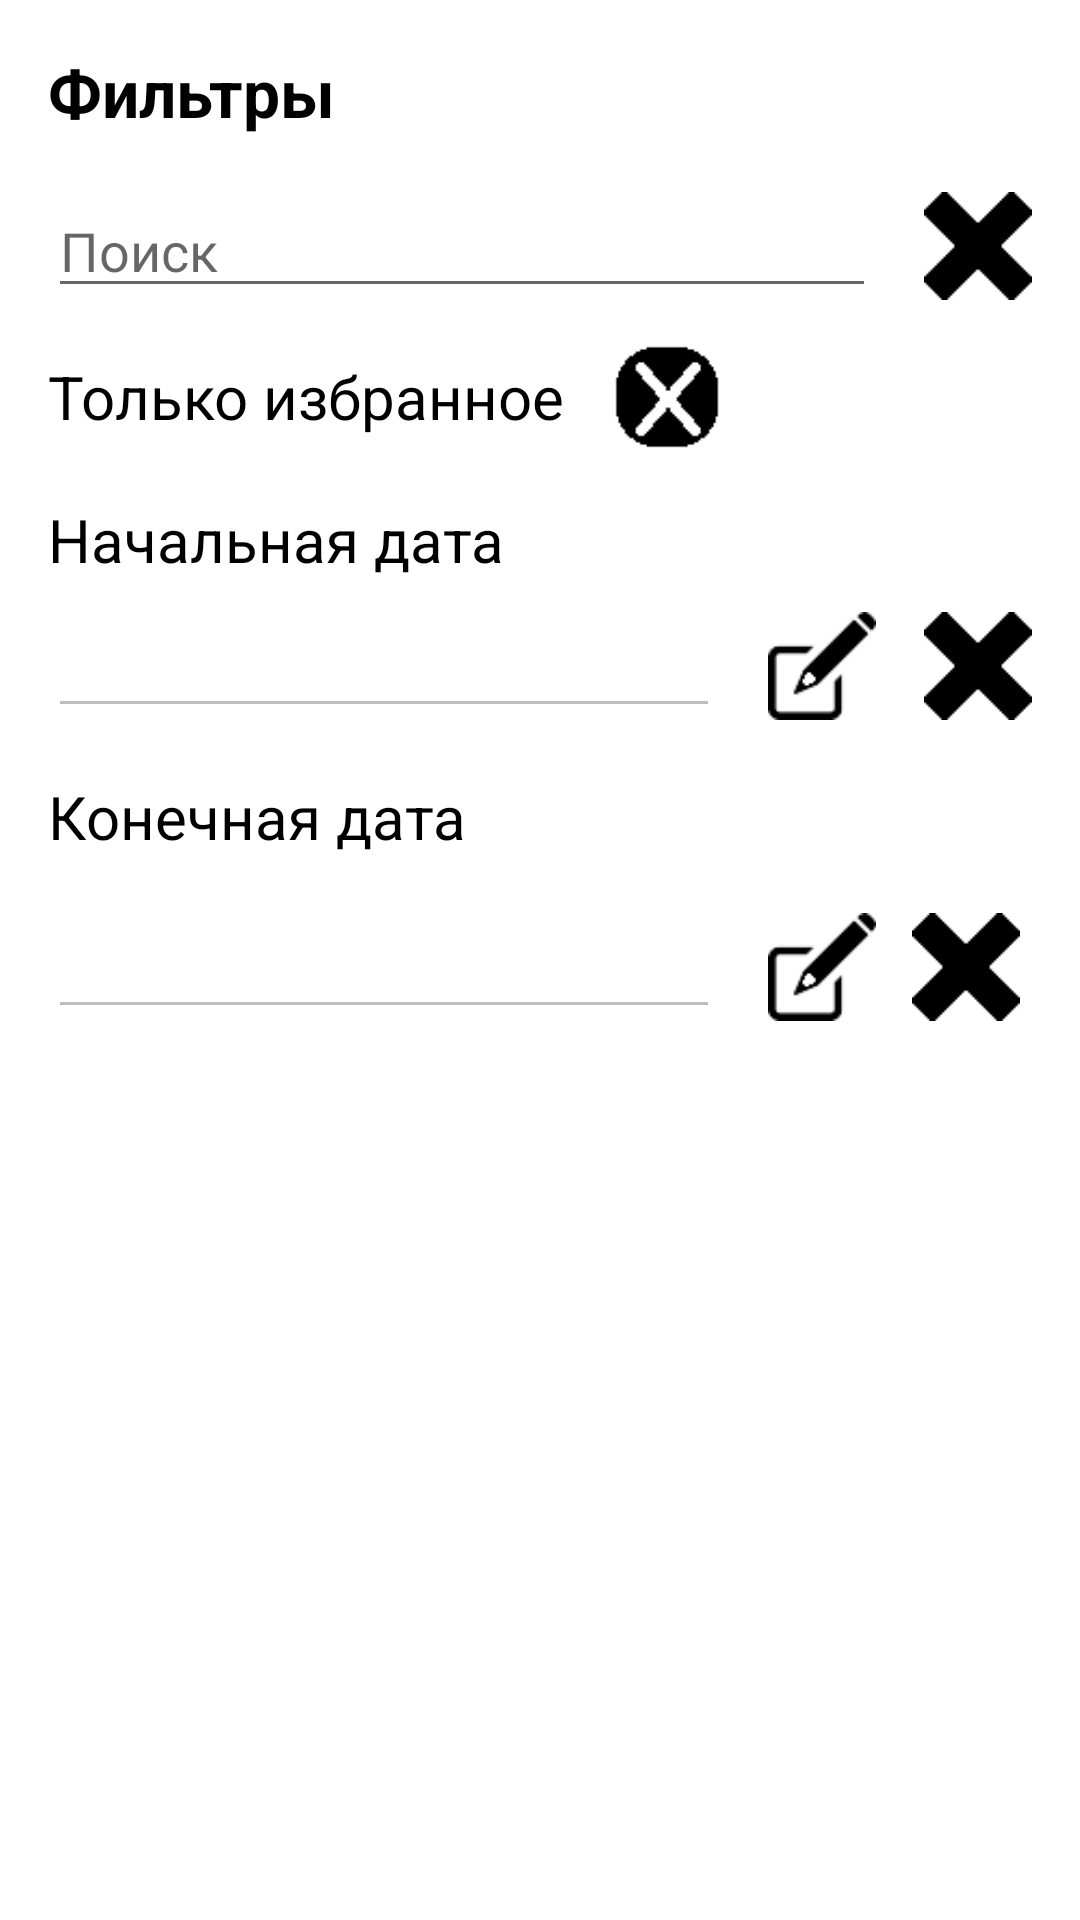

Screen size 1080w x 1920h. Icon name, then its center in pixels as (x=x, y=y):
cross: (x=978, y=246), (x=978, y=666), (x=966, y=967)
edit: (x=822, y=666), (x=822, y=967)
